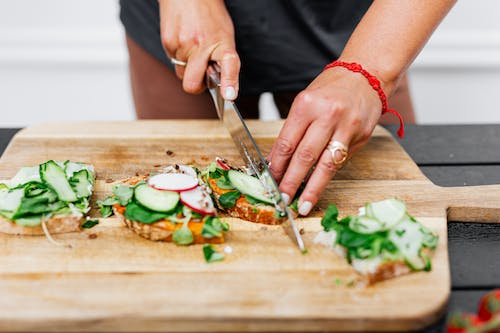knife: (203, 59, 305, 253)
